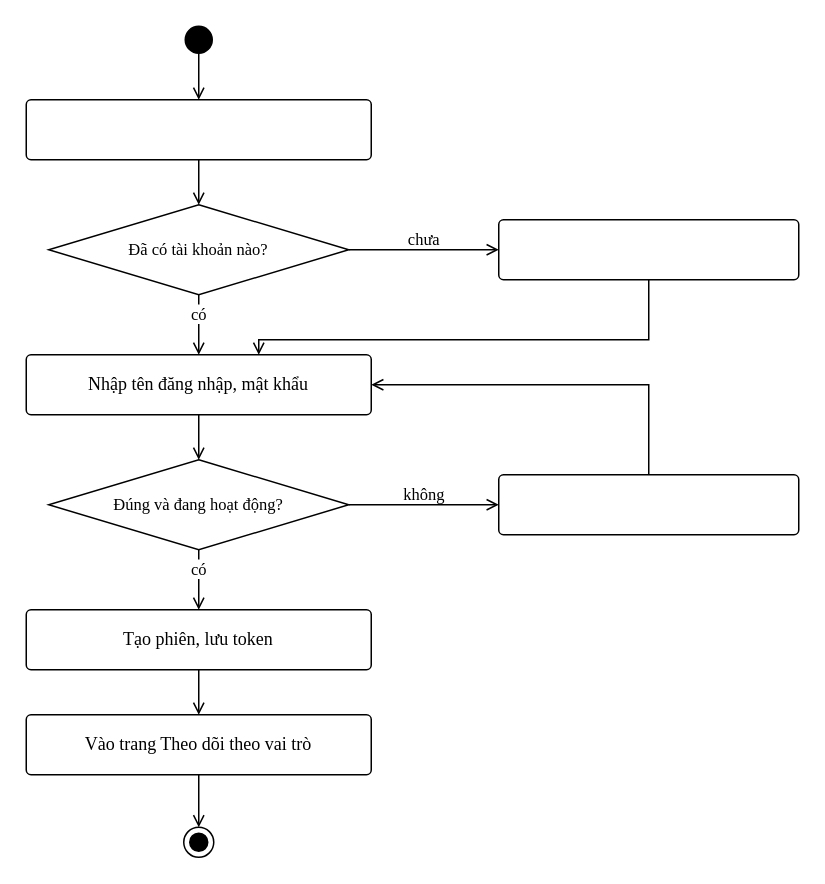
This 825x884 diagram has some shape labels left out. Each missing label, with the box of its shape:
Báo sai / bị khóa: (497, 473, 799, 535)
Mở trang web: (25, 98, 371, 160)
Tạo tài khoản quản trị: (497, 218, 799, 280)
